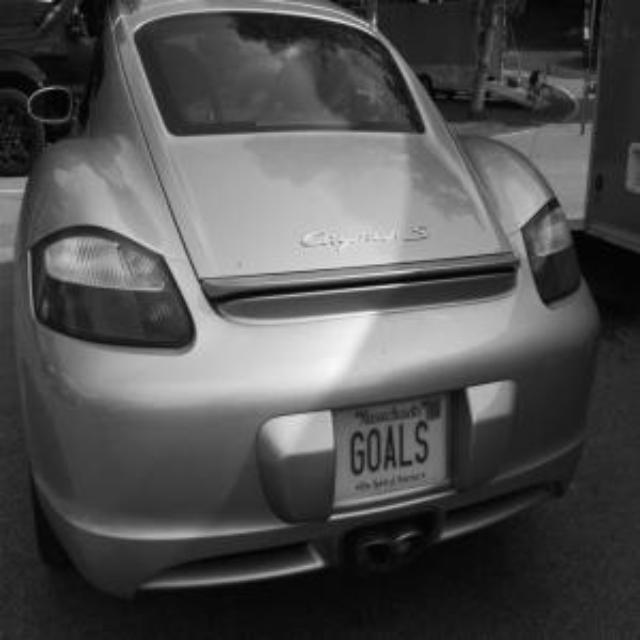License Plate: (335, 395, 445, 499)
